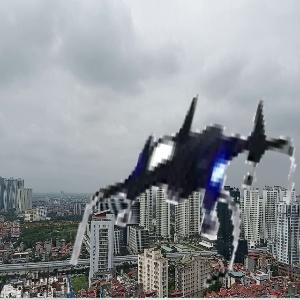drone: (80, 75, 297, 292)
